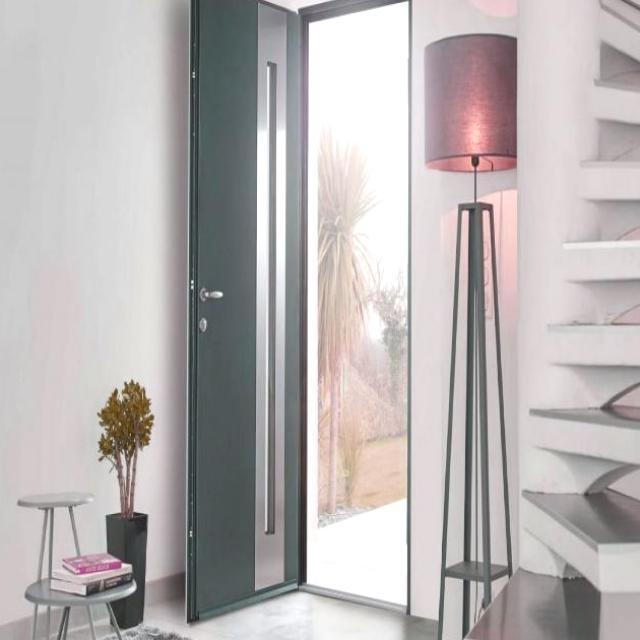door: (185, 0, 302, 622)
